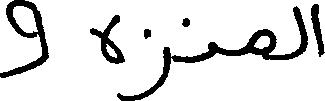X: (0, 0, 45, 82), (90, 10, 124, 100), (143, 24, 168, 100), (247, 24, 274, 64), (311, 0, 324, 61), (294, 1, 306, 62), (207, 37, 217, 63)
